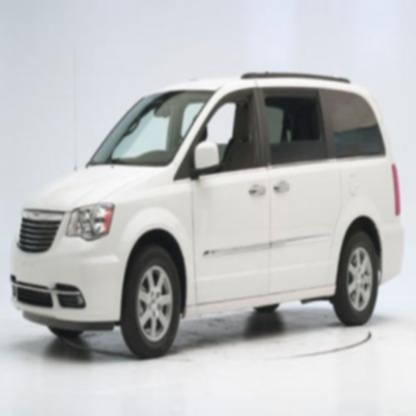Vehicle: (9, 66, 405, 363)
